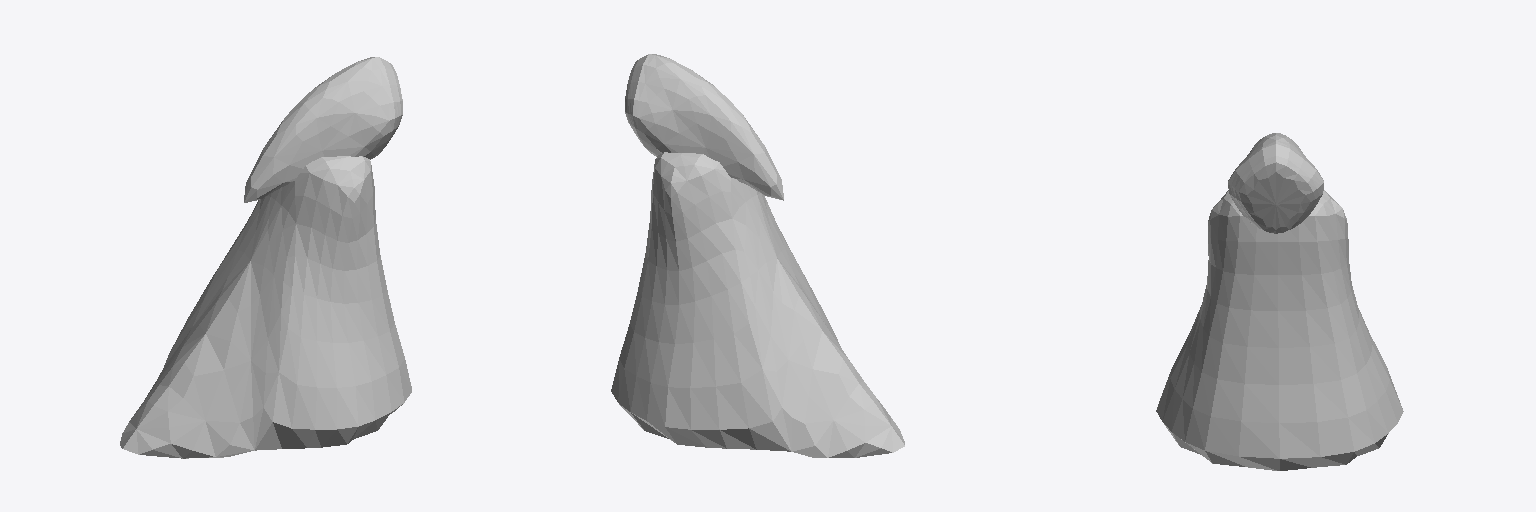
The model's file is Death.obj.
The picture shows the model from 3 angles: view 1: azimuth 30°, elevation 25°; view 2: azimuth 150°, elevation 25°; view 3: azimuth 270°, elevation 25°; orthographic projection.
Visible parts, largest first — view 1: Cone, Icosphere; view 2: Cone, Icosphere; view 3: Cone, Icosphere.
Boxes of the visible parts, <box> form: Cone: <box>120,156,411,458</box>; Icosphere: <box>244,57,402,202</box>; Cone: <box>611,152,904,457</box>; Icosphere: <box>625,54,783,200</box>; Cone: <box>1156,190,1403,470</box>; Icosphere: <box>1228,133,1323,233</box>.
Size of the model in its own units: 5.23 by 6.31 by 4.13.